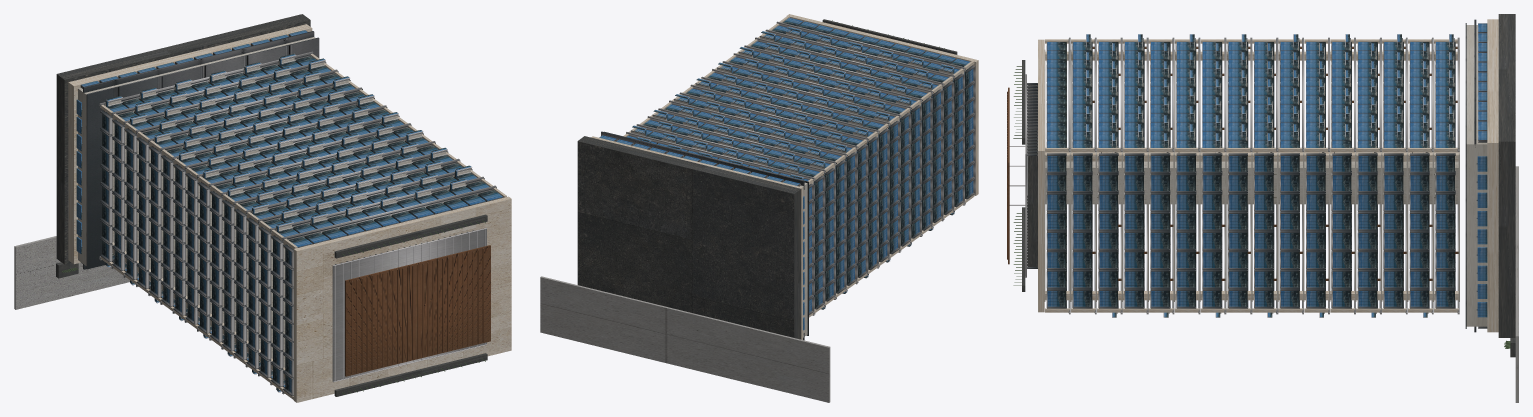
The model's file is gridlock_pacific_residences.glb.
3 views of the same model, side by side, from view 1: azimuth 30°, elevation 25°; view 2: azimuth 150°, elevation 25°; view 3: azimuth 270°, elevation 25° (orthographic). The views are drawn at different scales.
Visible parts, largest first — view 1: Pacific Residences - Glass, Pacific Residences - Steel, Pacific Residences - Metal, Pacific Residences - Limestone, Pacific Residences - Wood, Pacific Residences - Concrete, Pacific Residences - Darkstone, Pacific Residences - Sidewalk; view 2: Pacific Residences - Darkstone, Pacific Residences - Glass, Pacific Residences - Steel, Pacific Residences - Sidewalk, Pacific Residences - Metal, Pacific Residences - Concrete, Pacific Residences - Limestone; view 3: Pacific Residences - Glass, Pacific Residences - Metal, Pacific Residences - Concrete, Pacific Residences - Steel, Pacific Residences - Limestone, Pacific Residences - Darkstone, Pacific Residences - Wood, Pacific Residences - Sidewalk.
Boxes of the visible parts, x1=… form: Pacific Residences - Glass: x1=76, y1=30, x2=502, y2=392; Pacific Residences - Steel: x1=99, y1=51, x2=496, y2=395; Pacific Residences - Metal: x1=80, y1=31, x2=503, y2=395; Pacific Residences - Limestone: x1=68, y1=24, x2=511, y2=402; Pacific Residences - Wood: x1=104, y1=110, x2=490, y2=376; Pacific Residences - Concrete: x1=78, y1=37, x2=470, y2=380; Pacific Residences - Darkstone: x1=56, y1=14, x2=487, y2=396; Pacific Residences - Sidewalk: x1=14, y1=236, x2=129, y2=309; Pacific Residences - Darkstone: x1=577, y1=19, x2=958, y2=339; Pacific Residences - Glass: x1=599, y1=18, x2=973, y2=330; Pacific Residences - Steel: x1=617, y1=21, x2=975, y2=315; Pacific Residences - Sidewalk: x1=540, y1=276, x2=830, y2=402; Pacific Residences - Metal: x1=599, y1=22, x2=975, y2=340; Pacific Residences - Concrete: x1=631, y1=31, x2=969, y2=337; Pacific Residences - Limestone: x1=591, y1=14, x2=978, y2=339; Pacific Residences - Glass: x1=1047, y1=23, x2=1487, y2=317; Pacific Residences - Metal: x1=1027, y1=19, x2=1487, y2=332; Pacific Residences - Concrete: x1=1044, y1=25, x2=1487, y2=326; Pacific Residences - Steel: x1=1009, y1=24, x2=1478, y2=328; Pacific Residences - Limestone: x1=1038, y1=19, x2=1498, y2=332; Pacific Residences - Darkstone: x1=1022, y1=14, x2=1515, y2=357; Pacific Residences - Wood: x1=1007, y1=46, x2=1458, y2=280; Pacific Residences - Sidewalk: x1=1515, y1=166, x2=1518, y2=402.
Size of the model in its own units: 5200 by 3425 by 6614.
10 materials, 10 textured.
